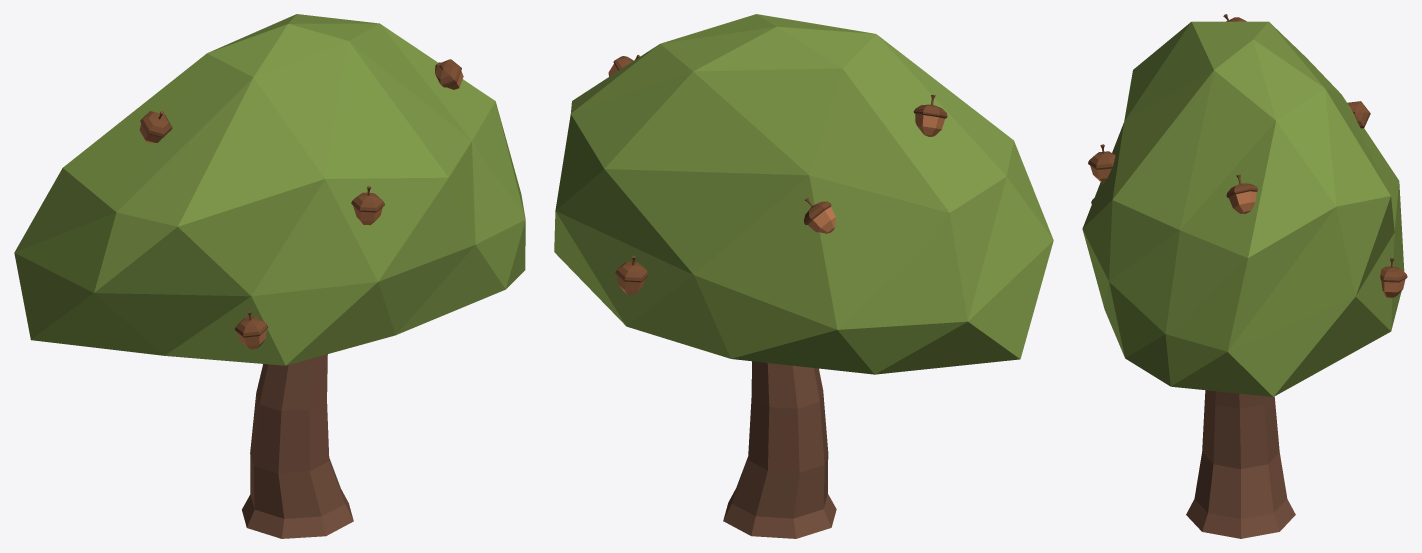
Rendered from OakTree_Adult.fbx.
3 views of the same model, side by side, from view 1: azimuth 30°, elevation 25°; view 2: azimuth 150°, elevation 25°; view 3: azimuth 270°, elevation 25° (orthographic). The views are drawn at different scales.
Parts seen in each view (by area): view 1: Sphere.000; view 2: Sphere.000; view 3: Sphere.000.
Part boxes in pixels (x1,y1,x2,y2): Sphere.000: [14, 14, 525, 538]; Sphere.000: [554, 14, 1053, 538]; Sphere.000: [1082, 14, 1407, 538].
Bounding box in the file's own units: 1565 × 1555 × 967.
